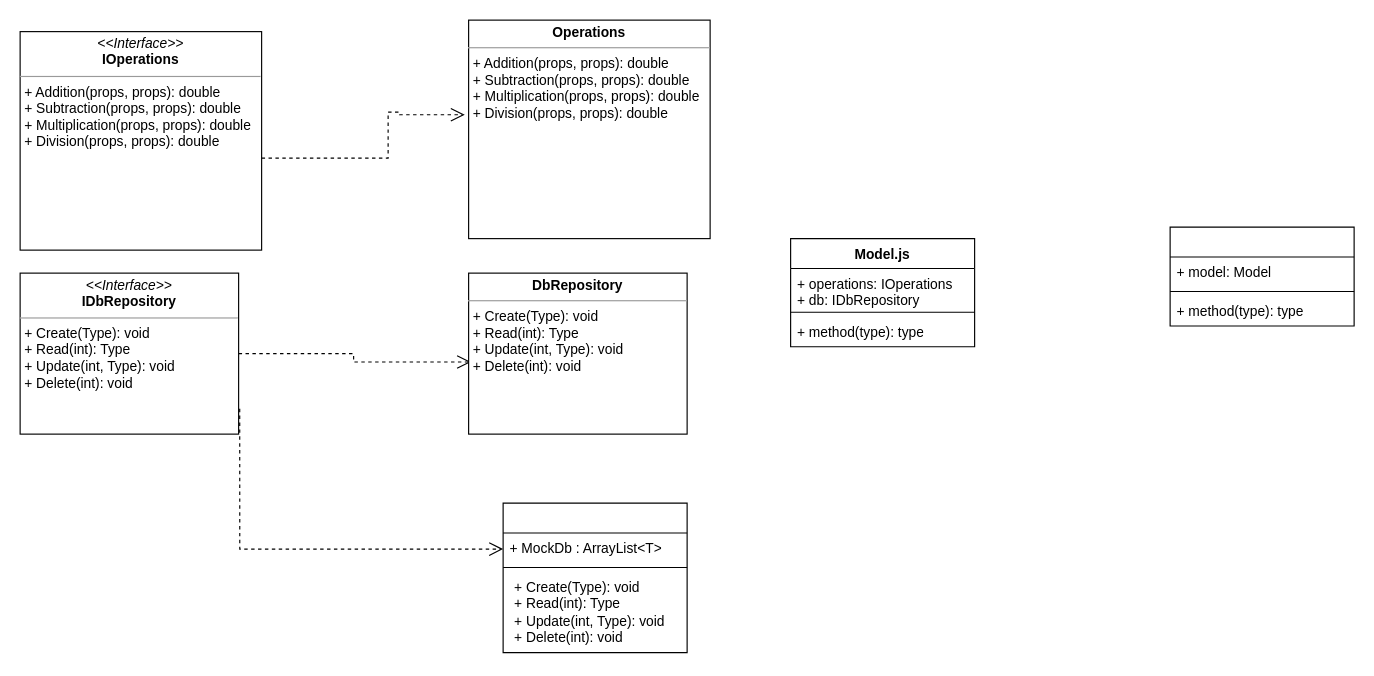
The diagram is 1374 pixels wide and 676 high, and some of its shapes have lost their labels. The shapes that lost their labels are listed below. From the top down, each one's box as (x1, y1, x2, y2) in pixels, then its label:
(1169, 226, 1354, 326): CalculatorController
(502, 502, 687, 653): MockDbRepository
